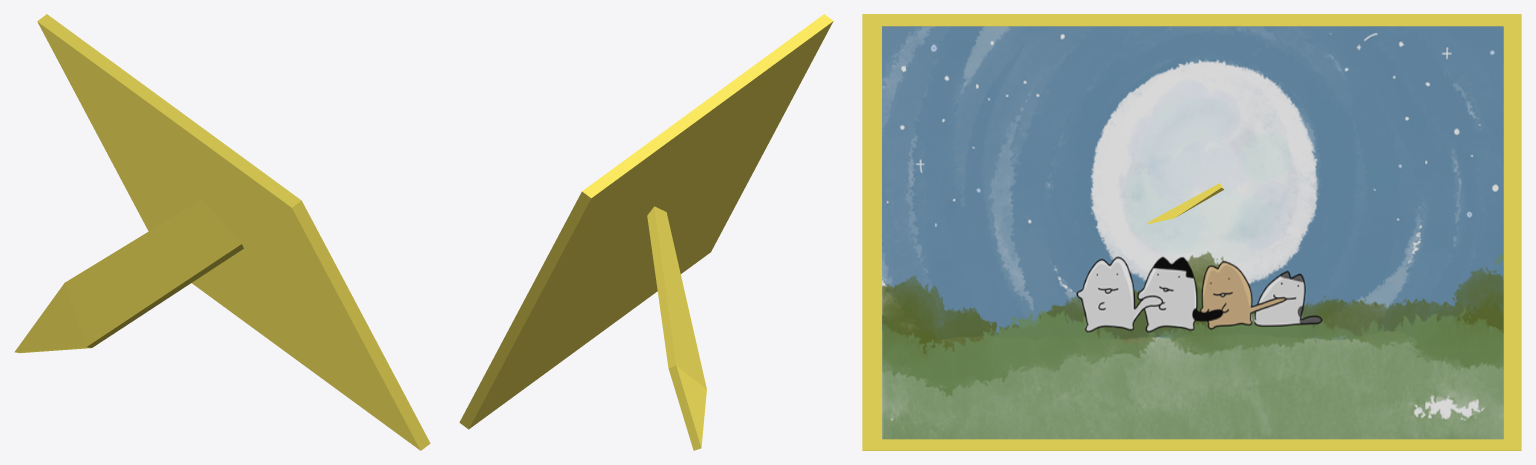
The model's file is PhotoFrame.fbx.
3 renders of one model, left to right at view 1: azimuth 30°, elevation 25°; view 2: azimuth 150°, elevation 25°; view 3: azimuth 270°, elevation 25°, orthographic. The views are drawn at different scales.
Visible parts, largest first — view 1: 큐브; view 2: 큐브; view 3: 큐브.
Boxes of the visible parts, left/top/right/bottom form: 큐브: left=14, top=14, right=430, bottom=450; 큐브: left=459, top=14, right=833, bottom=450; 큐브: left=862, top=14, right=1521, bottom=450.
Size of the model in its own units: 1.64 by 2.18 by 3.48.
